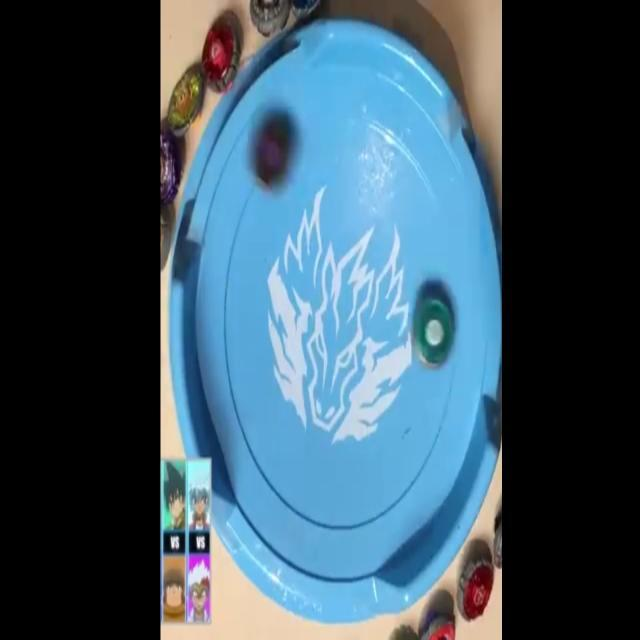Beyblade: (411, 293, 454, 368), (202, 17, 241, 94), (166, 70, 206, 137), (458, 556, 496, 622), (254, 124, 288, 190)
